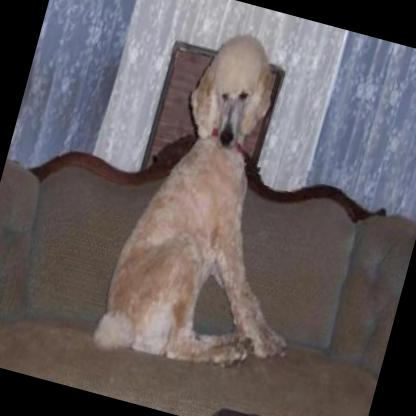standard_poodle: (91, 15, 362, 392)
